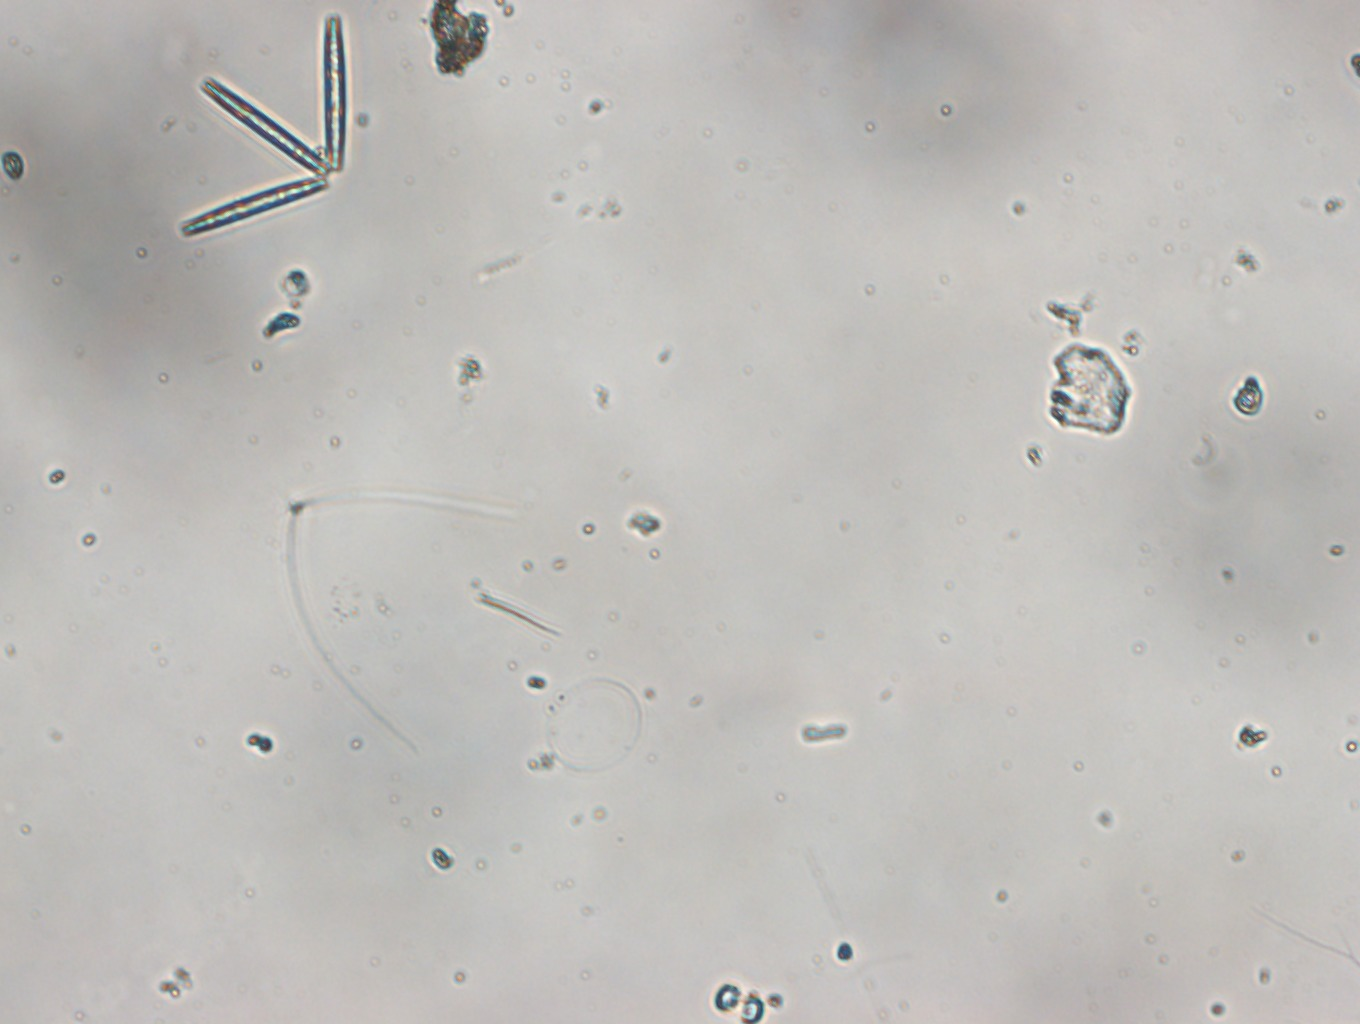thalassionema nitzschioides: (169, 10, 366, 248)
